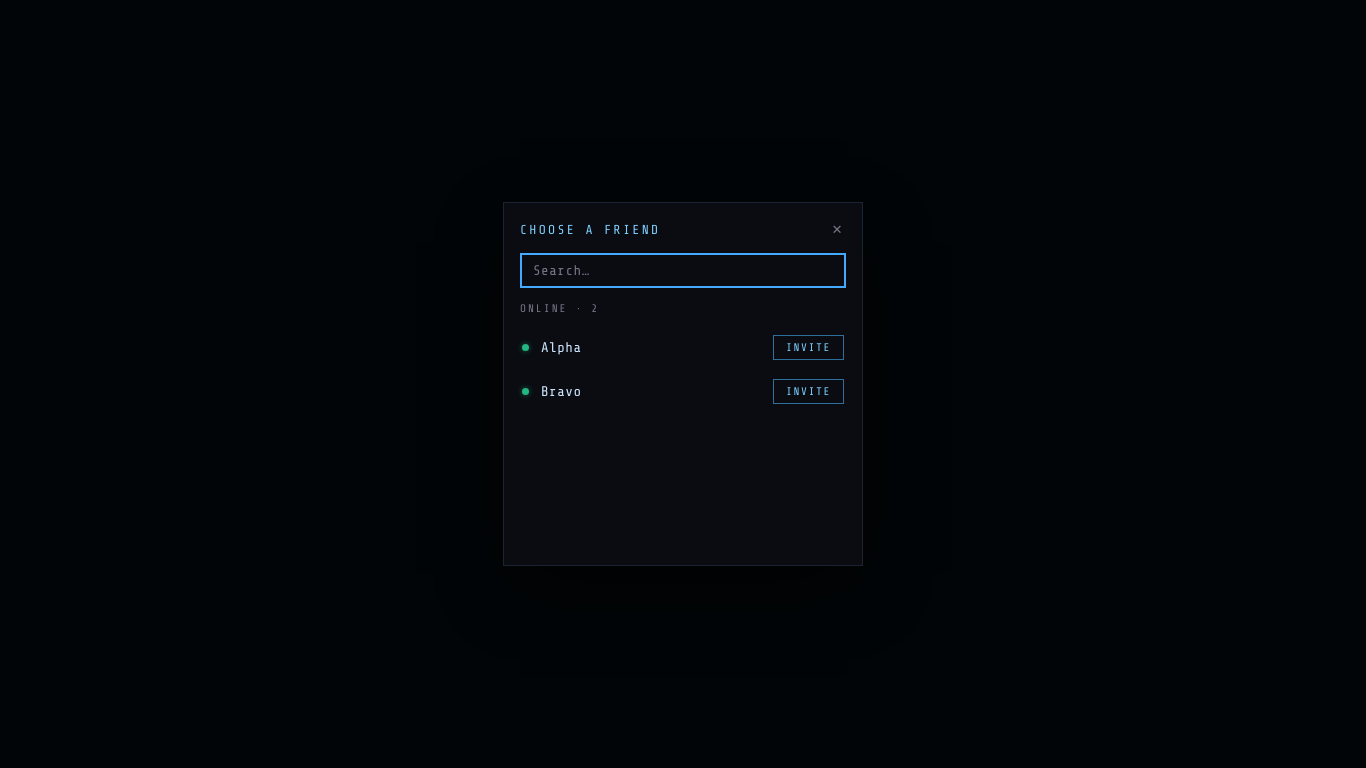
Scenario: SteamFriendPicker › search filters the list by name
Check: the button with test id "lobby-friend-1" is shown, box [512,325,854,369]
Type "bra" into the field with test id "lobby-picker-search" showing "Search…" at (683, 270), box [520,253,846,288]
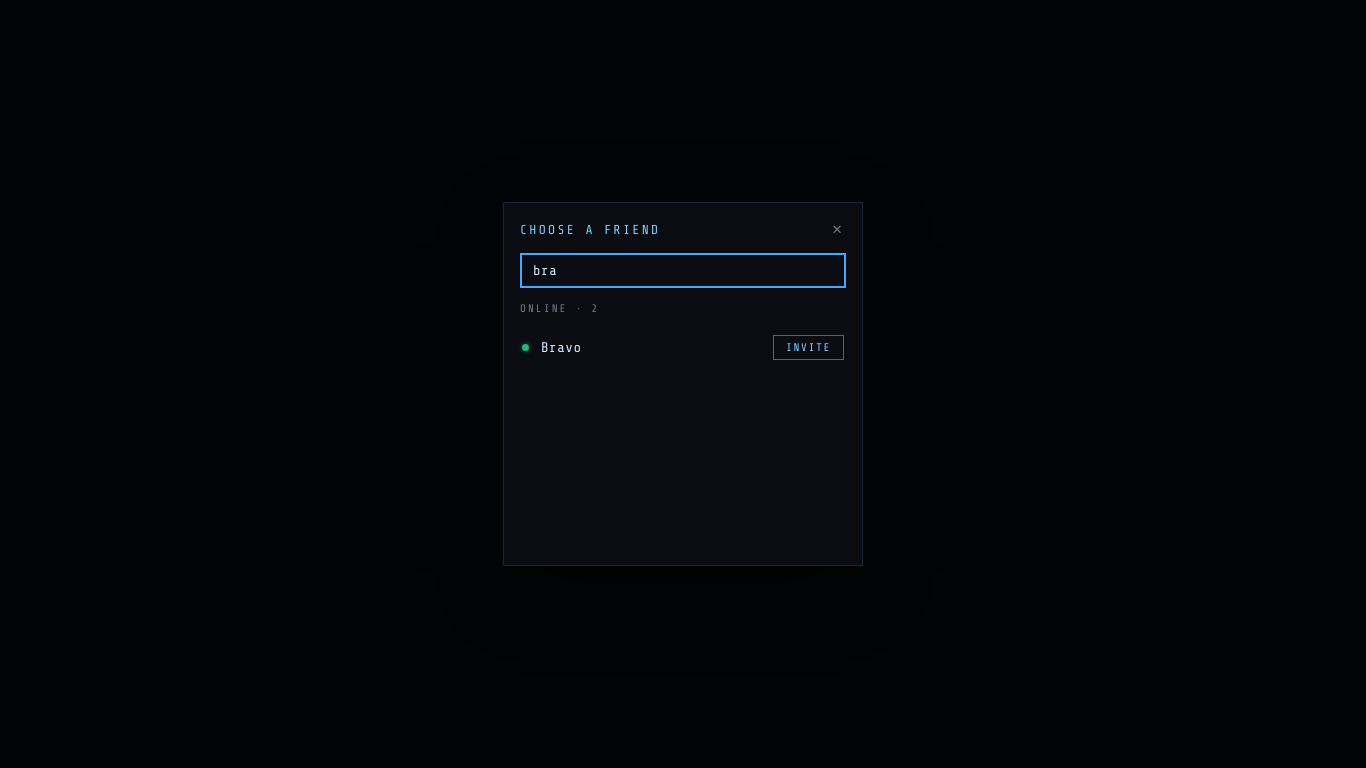
Check: the button with test id "lobby-friend-2" is shown, box [512,325,854,369]
Check: the button with test id "lobby-friend-1" is gone
